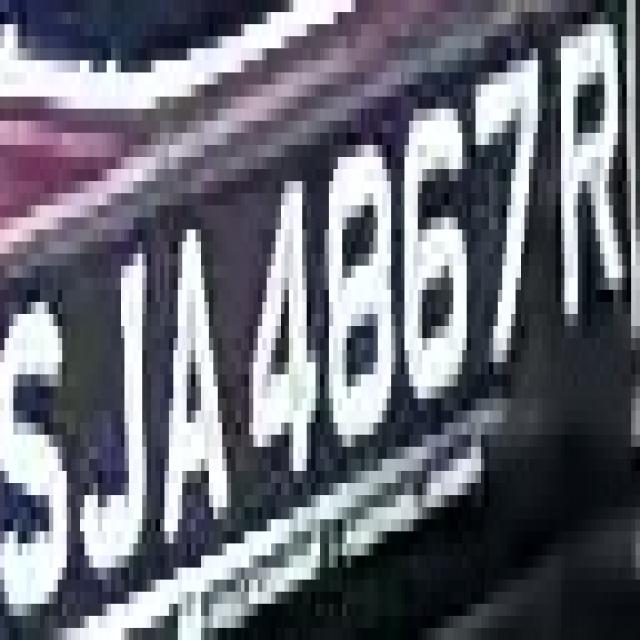4: (240, 157, 324, 507)
6: (396, 85, 484, 422)
7: (453, 24, 547, 423)
8: (315, 133, 409, 459)
A: (151, 181, 253, 568)
J: (80, 193, 169, 592)
R: (546, 12, 636, 362)
S: (0, 253, 84, 615)
